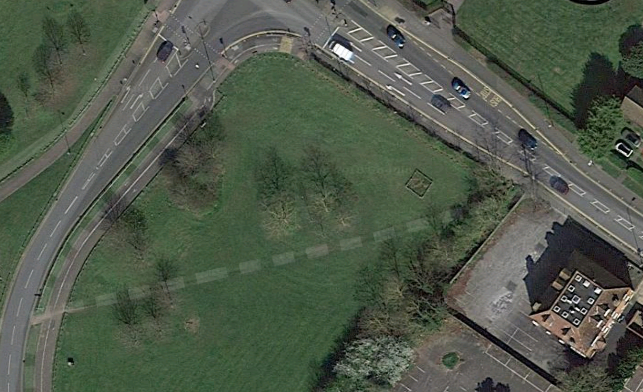tree: (250, 159, 305, 242), (300, 165, 358, 232), (98, 210, 149, 265), (146, 264, 190, 318), (114, 306, 148, 355)
